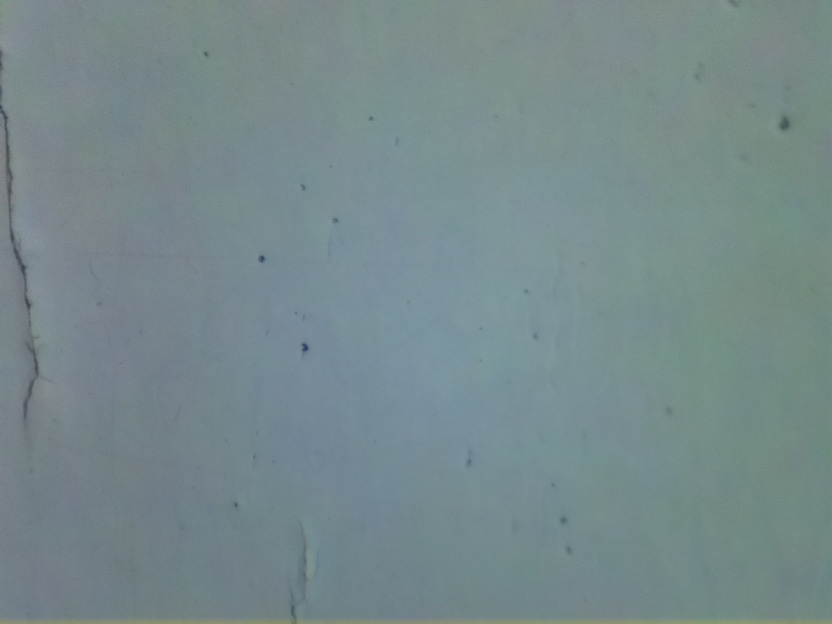crack: (0, 92, 39, 418), (289, 524, 316, 624)
